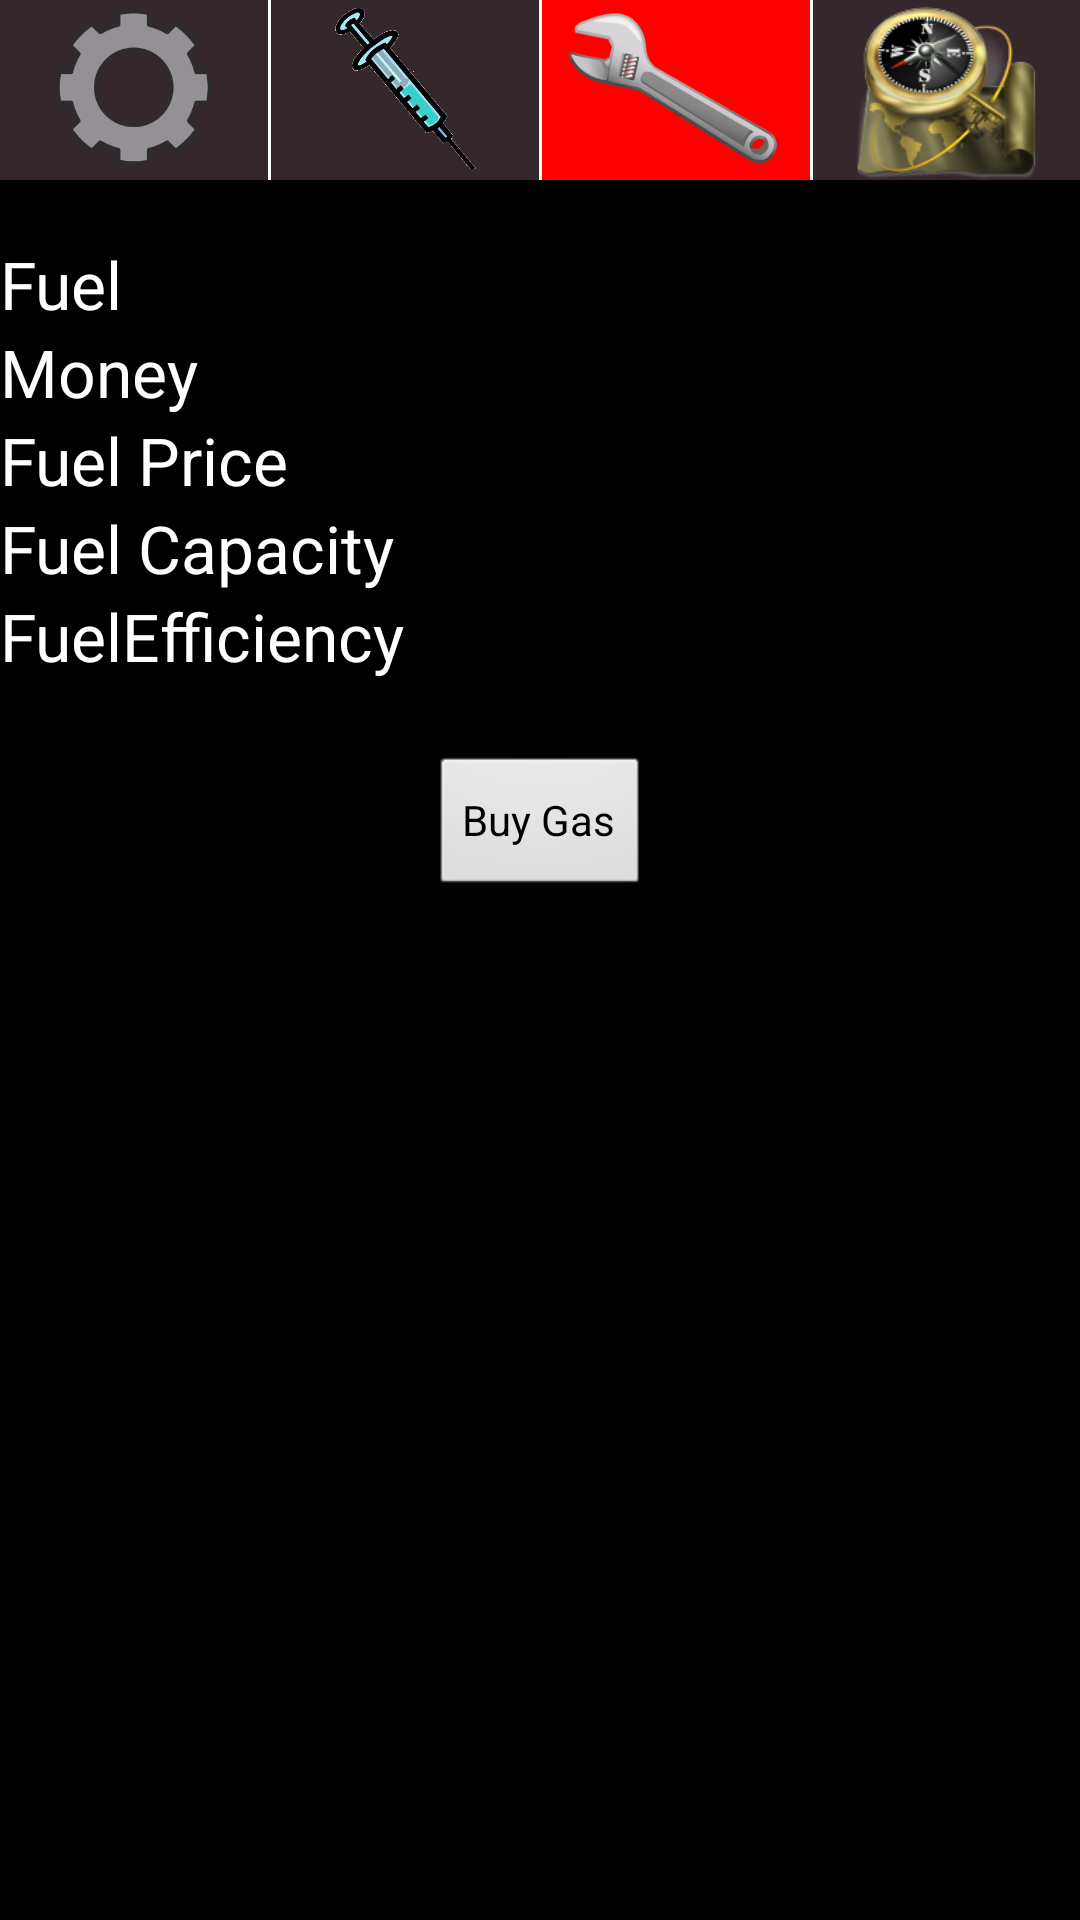

Named icons in this screenshot (1080w x 1920h) and their centers, (x=x, y=y):
gear: (x=134, y=90)
map: (x=946, y=90)
syringe: (x=405, y=90)
wrench: (x=676, y=90)
